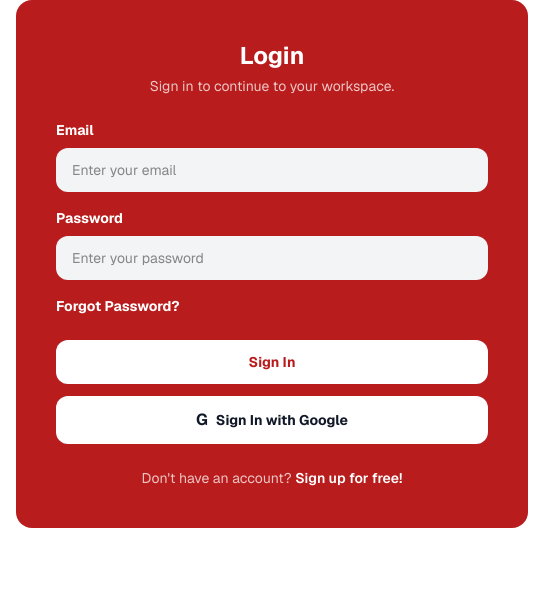
Test: LoginForm › negative › shows error when email is invalid
Type "invalid-email" into the field labelled "Email" at [272, 170], box [56,148,488,192]
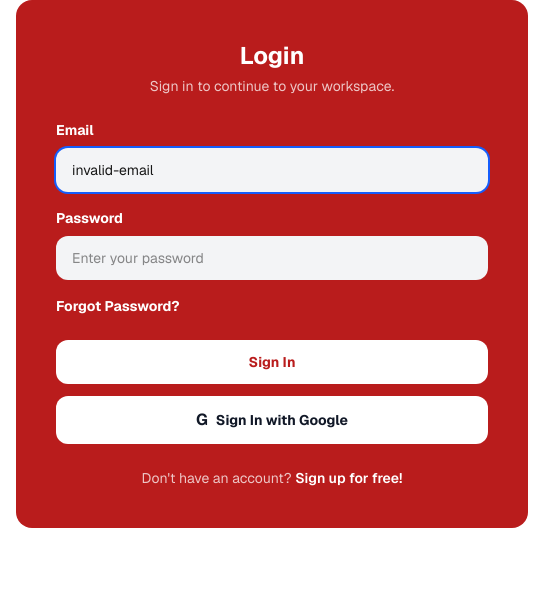
Click the button "Sign In" at [272, 362], box [56,340,488,384]
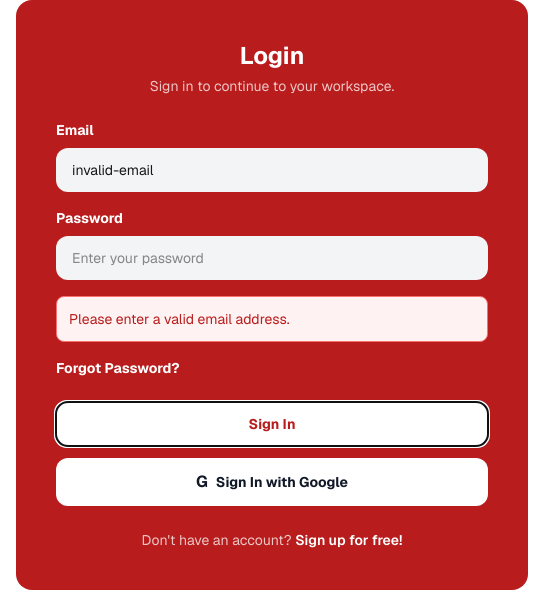
Expected: the message "Please enter a valid email address." is shown, [56,296,488,342]
